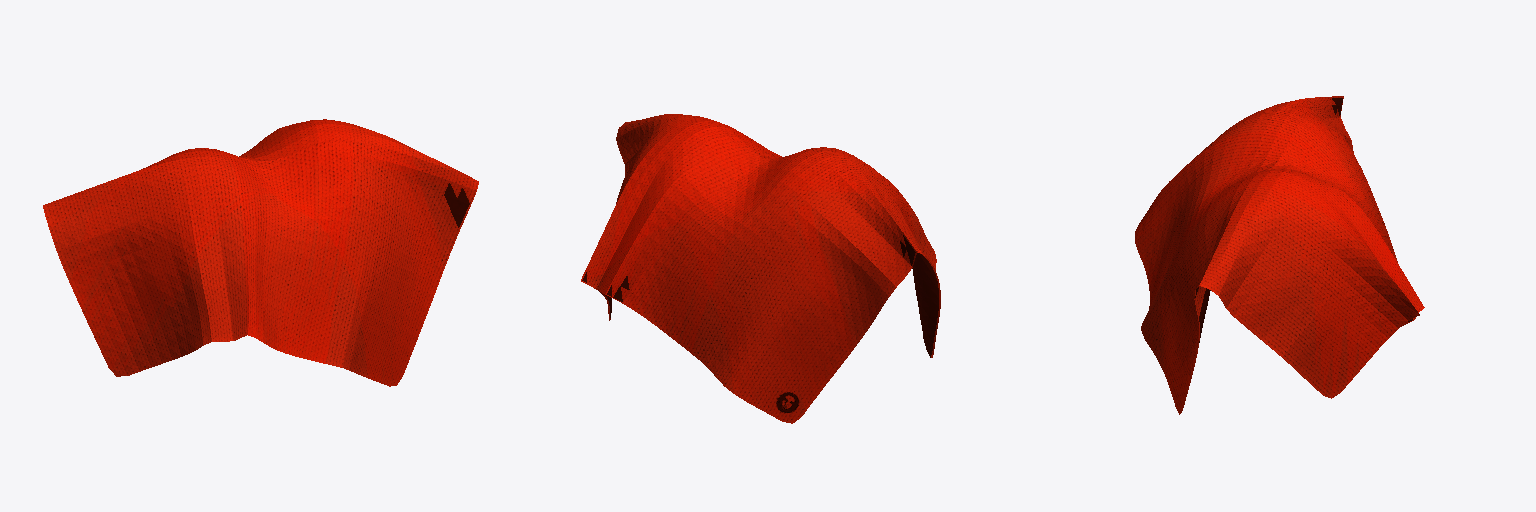
3 views of the same model, side by side, from view 1: azimuth 30°, elevation 25°; view 2: azimuth 150°, elevation 25°; view 3: azimuth 270°, elevation 25° (orthographic).
Parts seen in each view (by area): view 1: cloth; view 2: cloth; view 3: cloth.
Part boxes in pixels (x1,y1,x2,y2): cloth: (43,119,478,386); cloth: (581,114,940,423); cloth: (1135,96,1424,414).
Size of the model in its own units: 2.67 by 1.59 by 1.81.
Materials: 2 (2 with a texture image).